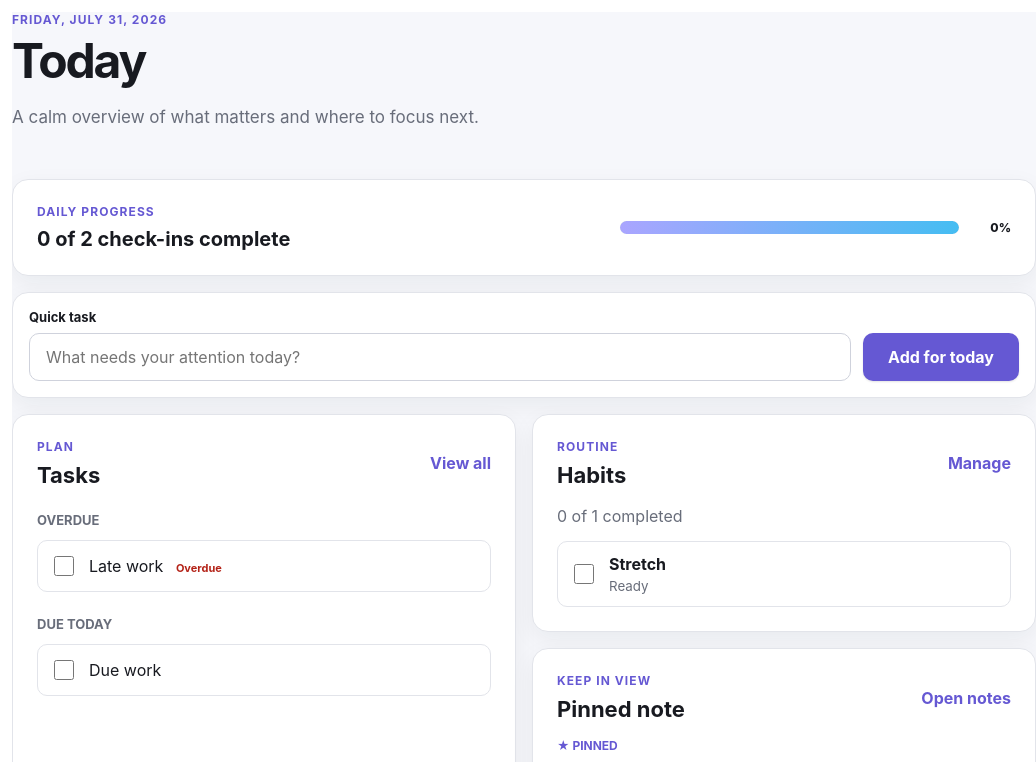
Test: TodayView › reacts immediately to due tasks, habit completion, and the pinned note
The width and height of the screenshot is (1036, 762).
Click the checkbox labelled "Stretch Ready" at (584, 574), box [574,564,594,584]
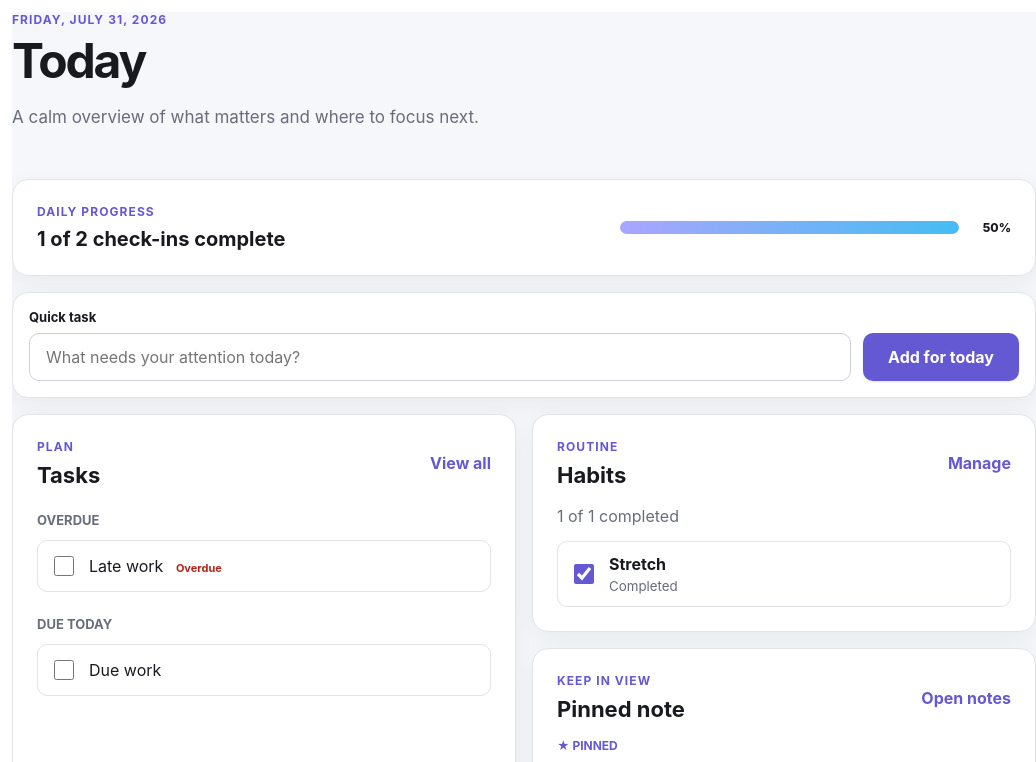
Expected: the text "1 of 1 completed" is shown, [557,506,679,526]
